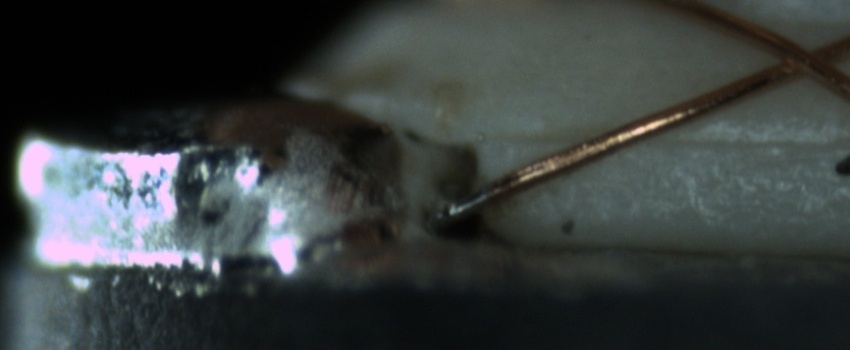CL: (756, 26, 846, 89)
DL: (500, 111, 843, 171)
TS: (435, 178, 500, 228)
